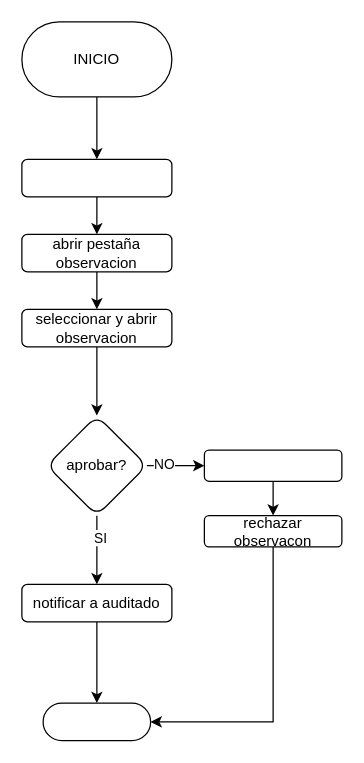
Some shapes in this 364 by 763 pixel diagram are drawn without their labels. The box of each missing label's shape, as (x1, y1, x2, y2) in pixels:
agregar un comentario: (203, 449, 342, 481)
FIN: (42, 702, 151, 741)
ingresar a auditoria: (21, 158, 172, 197)
